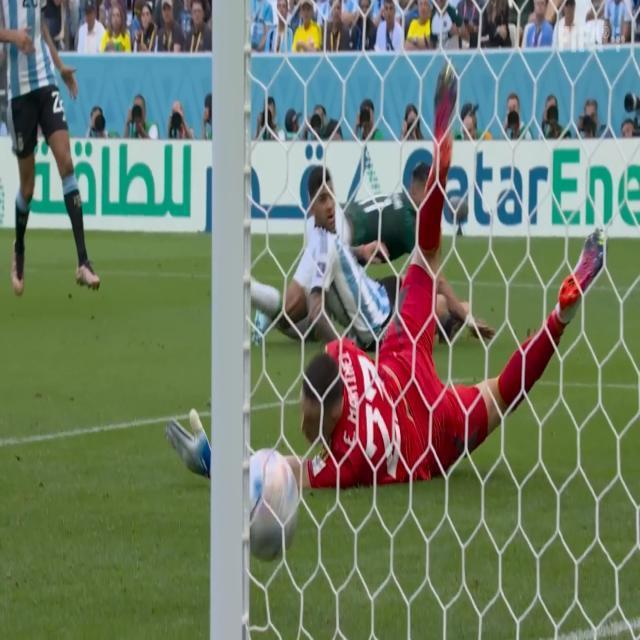football: (233, 445, 307, 574)
